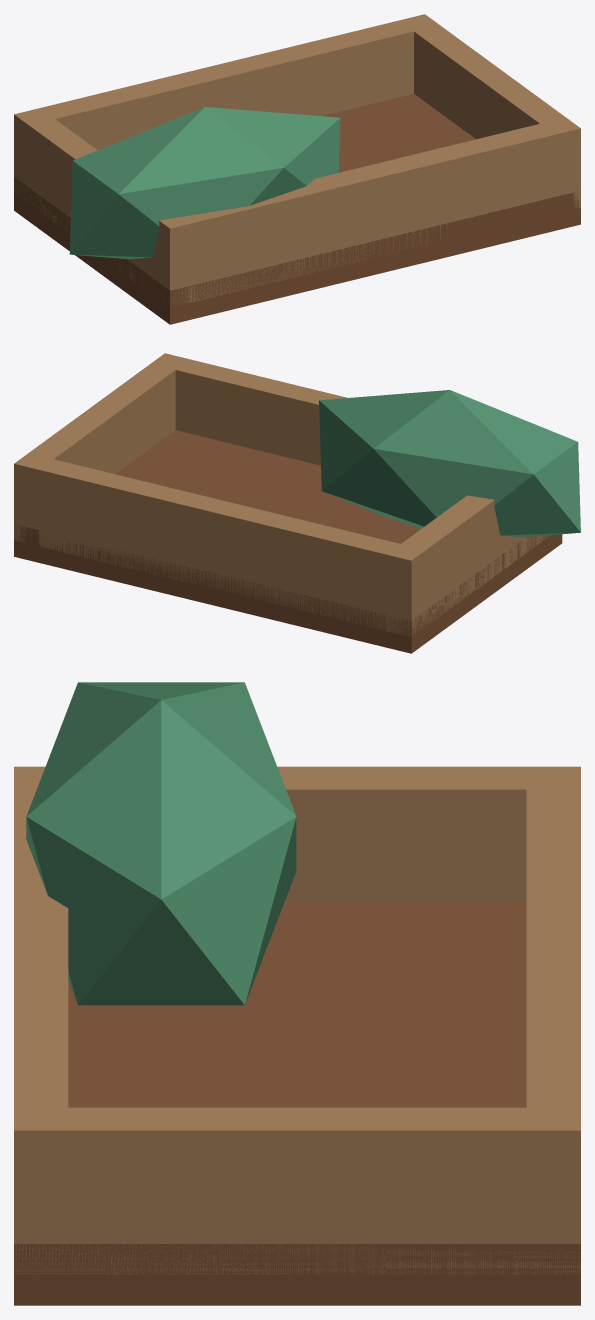
The model's file is set_melon_half.glb.
3 renders of one model, top to bottom at view 1: azimuth 30°, elevation 25°; view 2: azimuth 150°, elevation 25°; view 3: azimuth 270°, elevation 25°, orthographic. The views are drawn at different scales.
Parts seen in each view (by area): view 1: set_melon_half; view 2: set_melon_half; view 3: set_melon_half.
Part boxes in pixels (x1,y1,x2,y2): set_melon_half: [14, 14, 580, 324]; set_melon_half: [14, 353, 580, 653]; set_melon_half: [14, 682, 580, 1305].
Size of the model in its own units: 0.4352 by 0.15 by 0.25.
